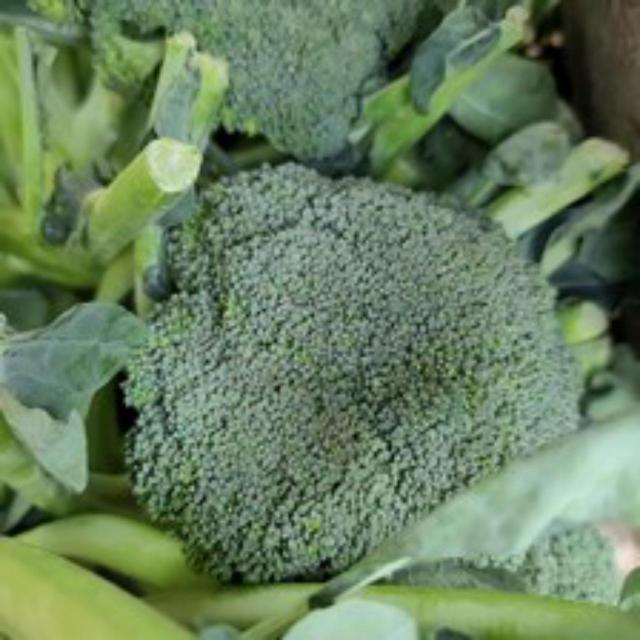broccoli: (103, 150, 597, 604)
